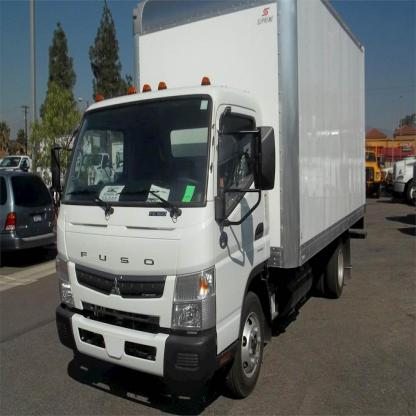truck: (51, 1, 366, 394)
